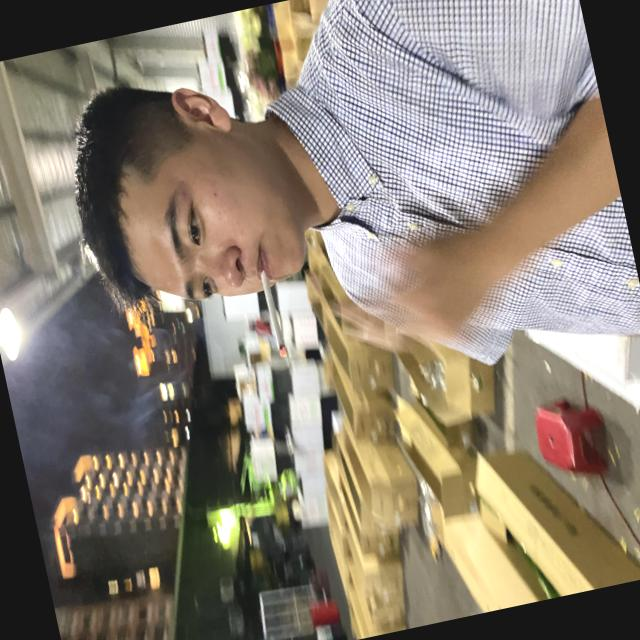smoke: (249, 254, 304, 376)
